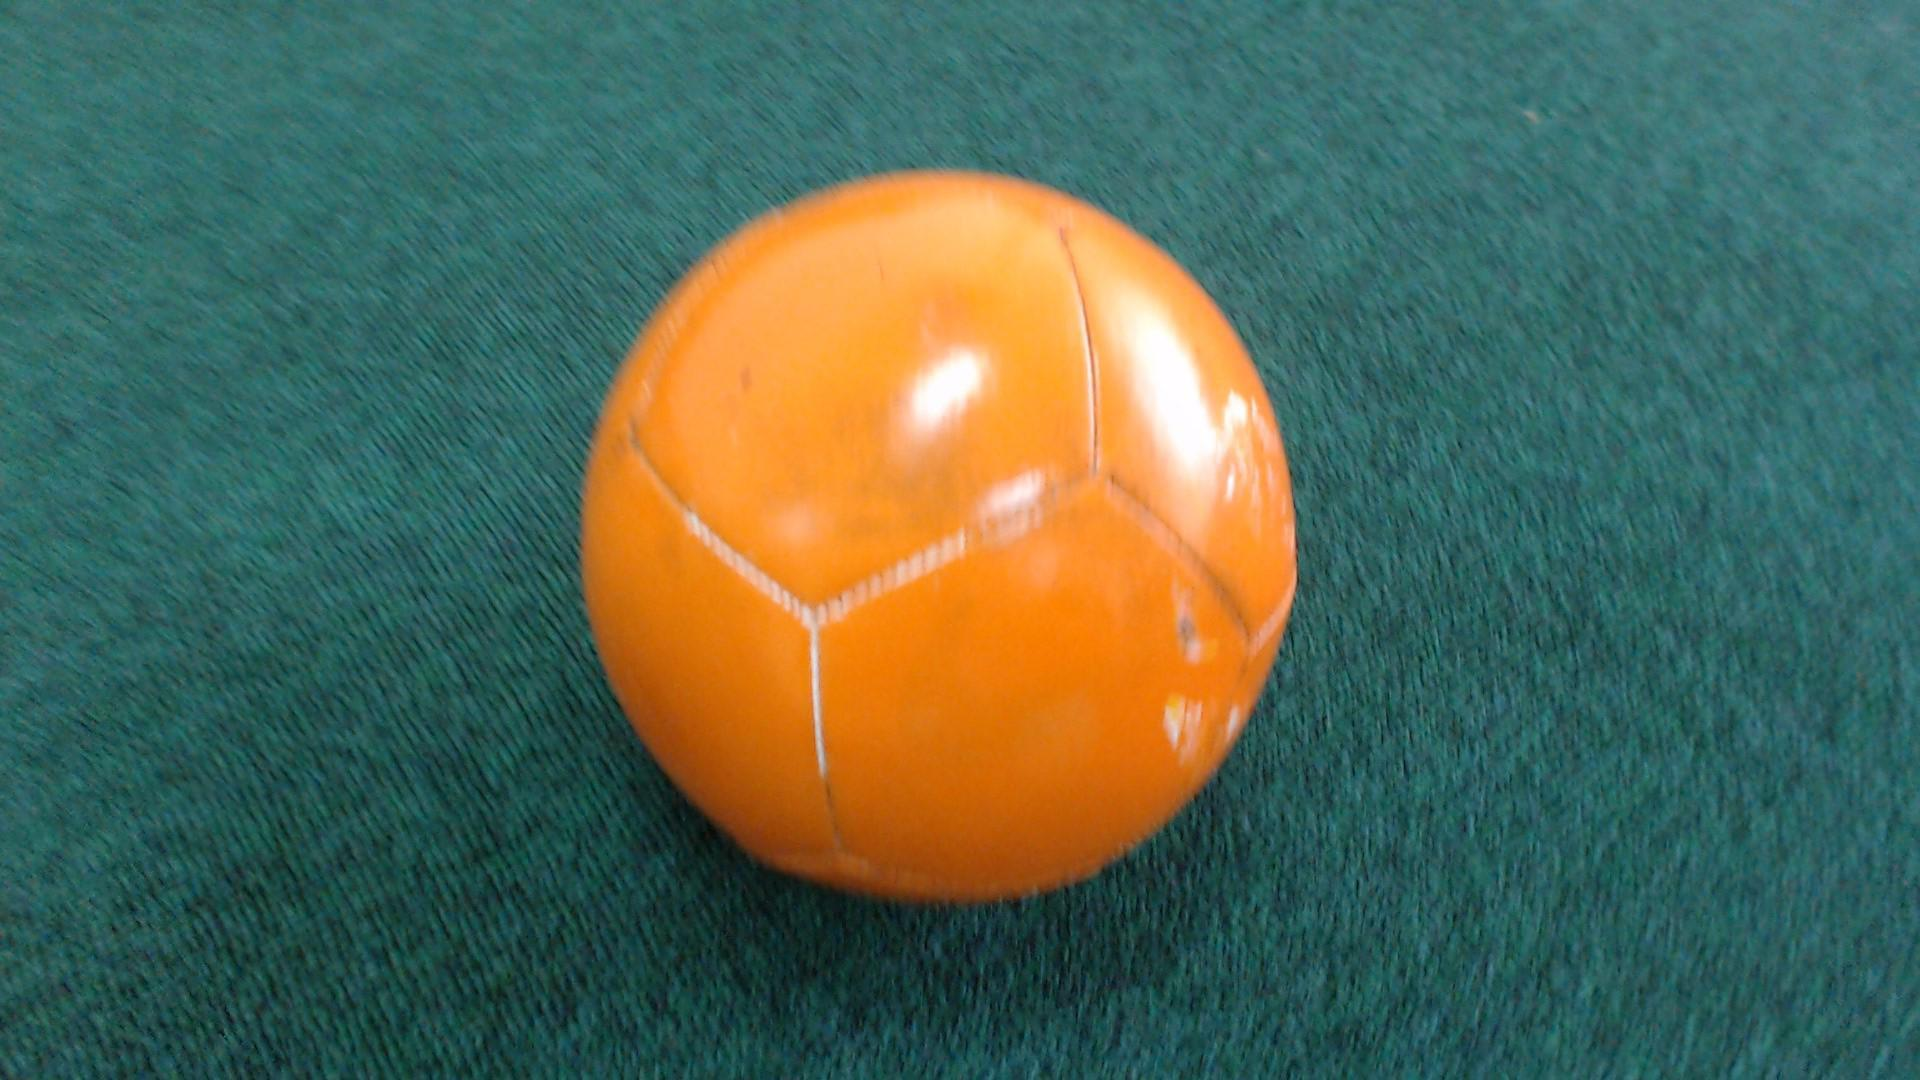bola: (531, 162, 1317, 942)
